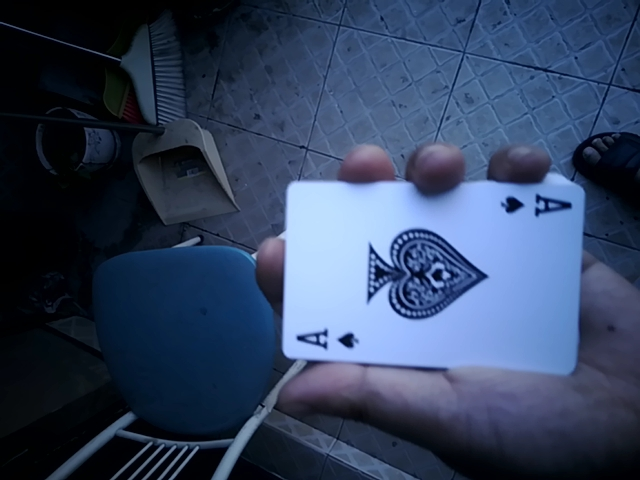ht a: (268, 177, 587, 371)
